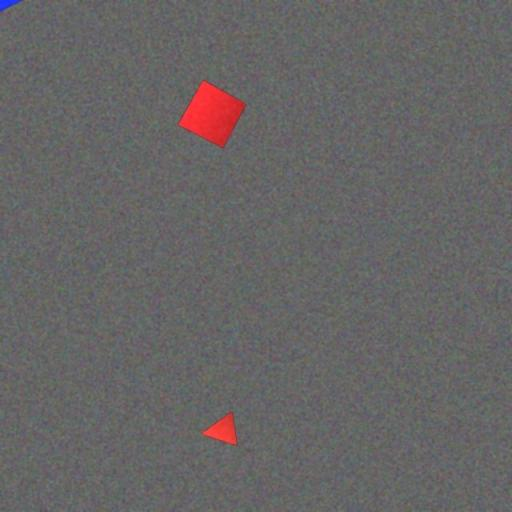RED_SQUARE: (177, 79, 247, 149)
